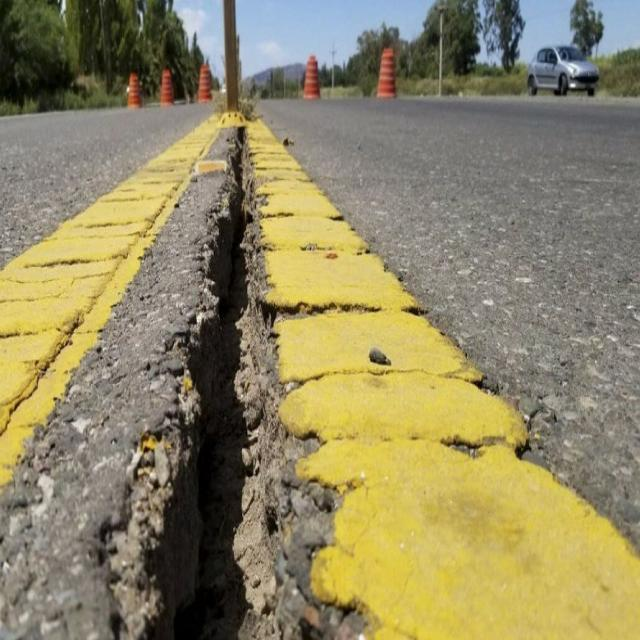Buraco: (95, 123, 283, 640)
